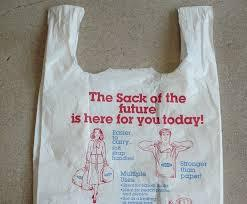Plastic bag: (32, 5, 236, 204)
